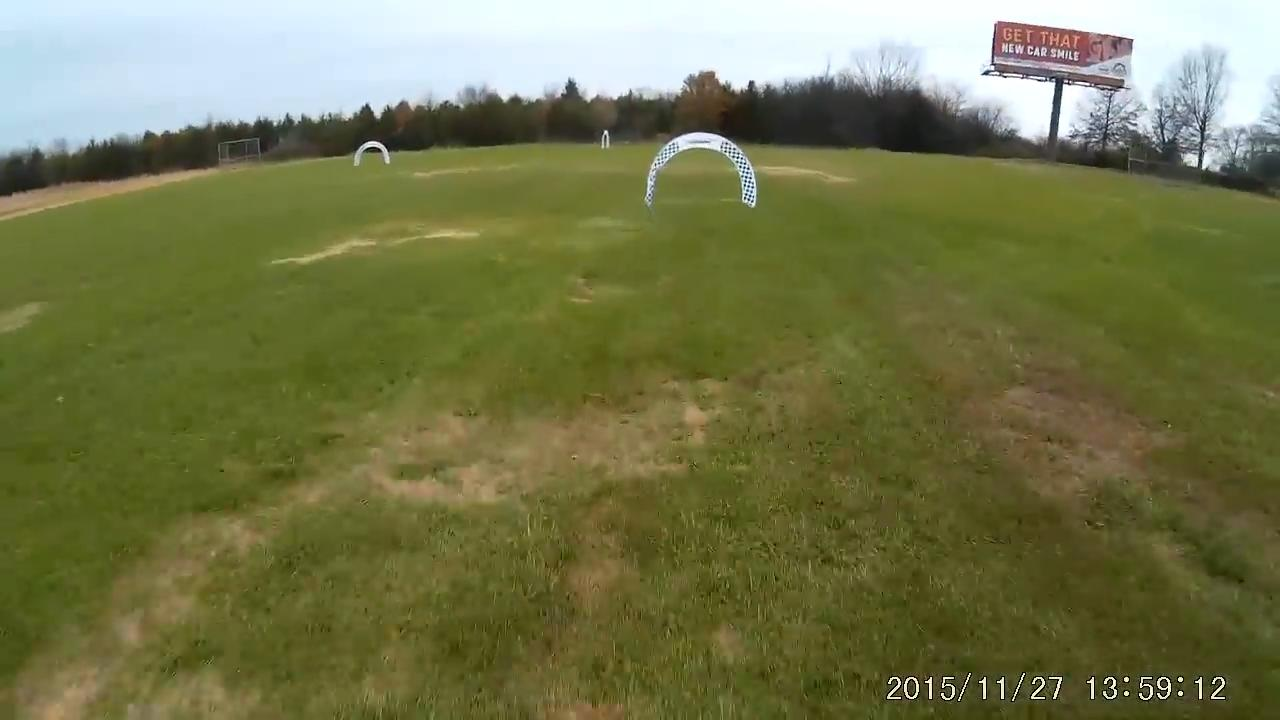gate: (642, 132, 761, 209)
